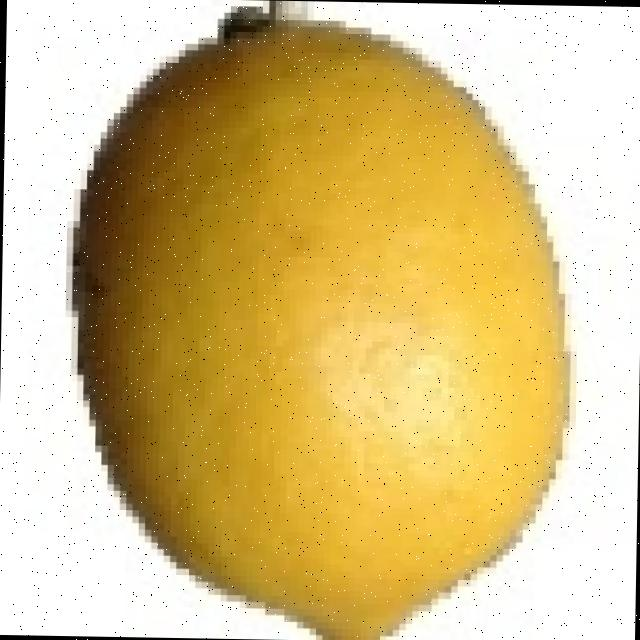lemon: (75, 15, 567, 640)
